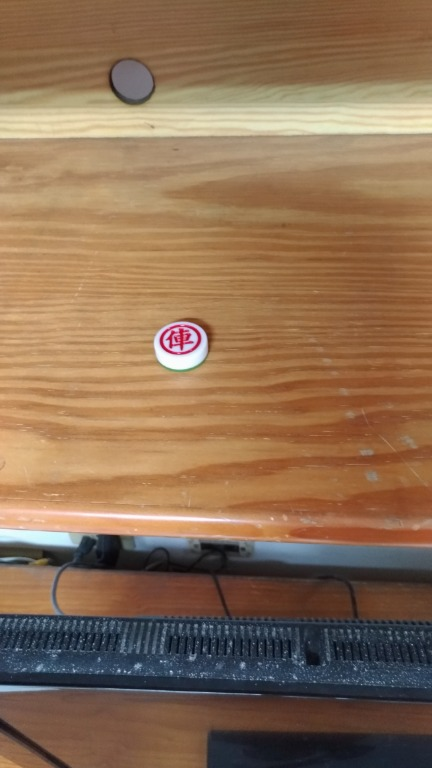r-rook: (140, 314, 239, 379)
